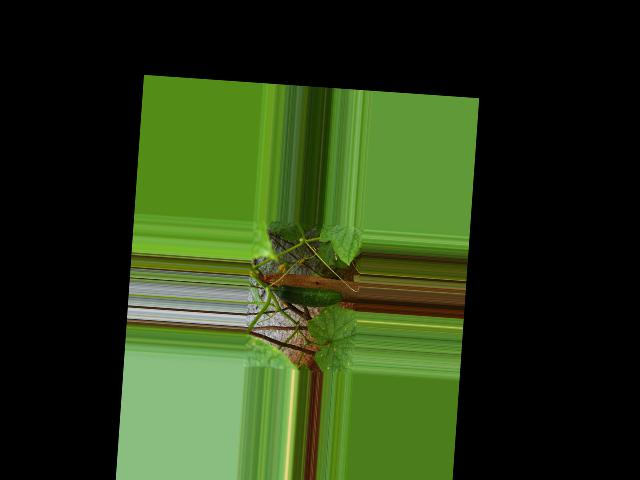cucumber: (275, 283, 343, 308)
